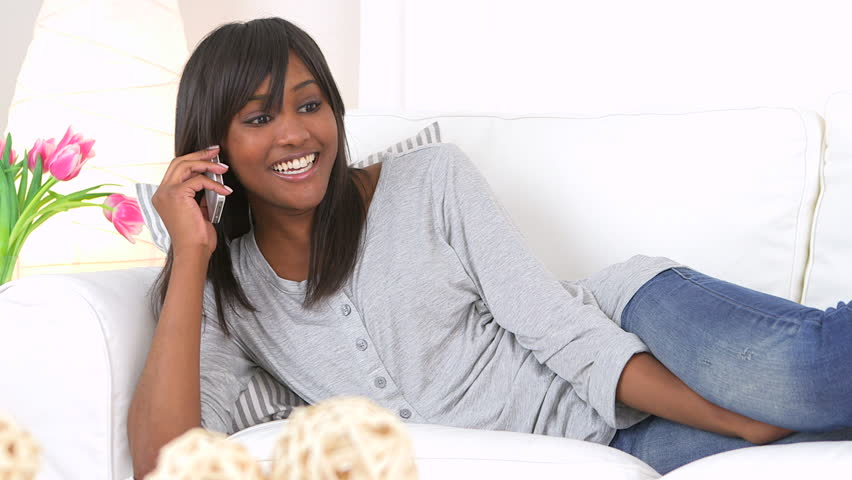phone: (152, 145, 242, 230)
talk: (151, 73, 341, 260)
